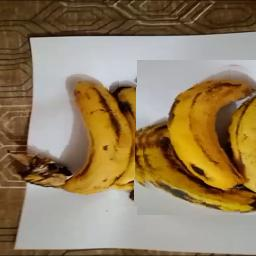Banana Semifresh: (137, 60, 256, 215), (59, 78, 133, 196), (109, 64, 168, 207)
